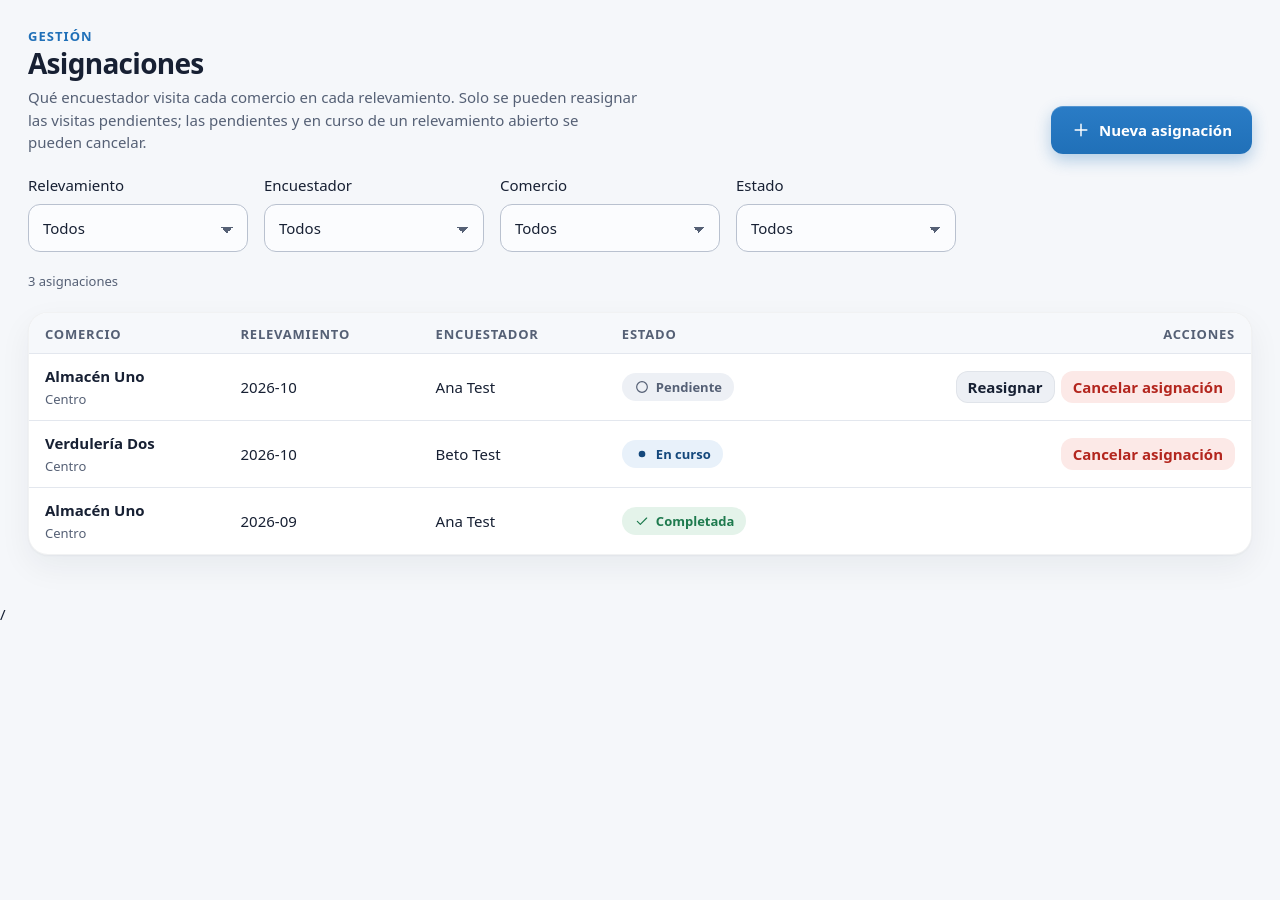
create asignacion › creates, closes and refreshes
Click the button "Nueva asignación".
click(1152, 130)  # box [1051,106,1252,154]
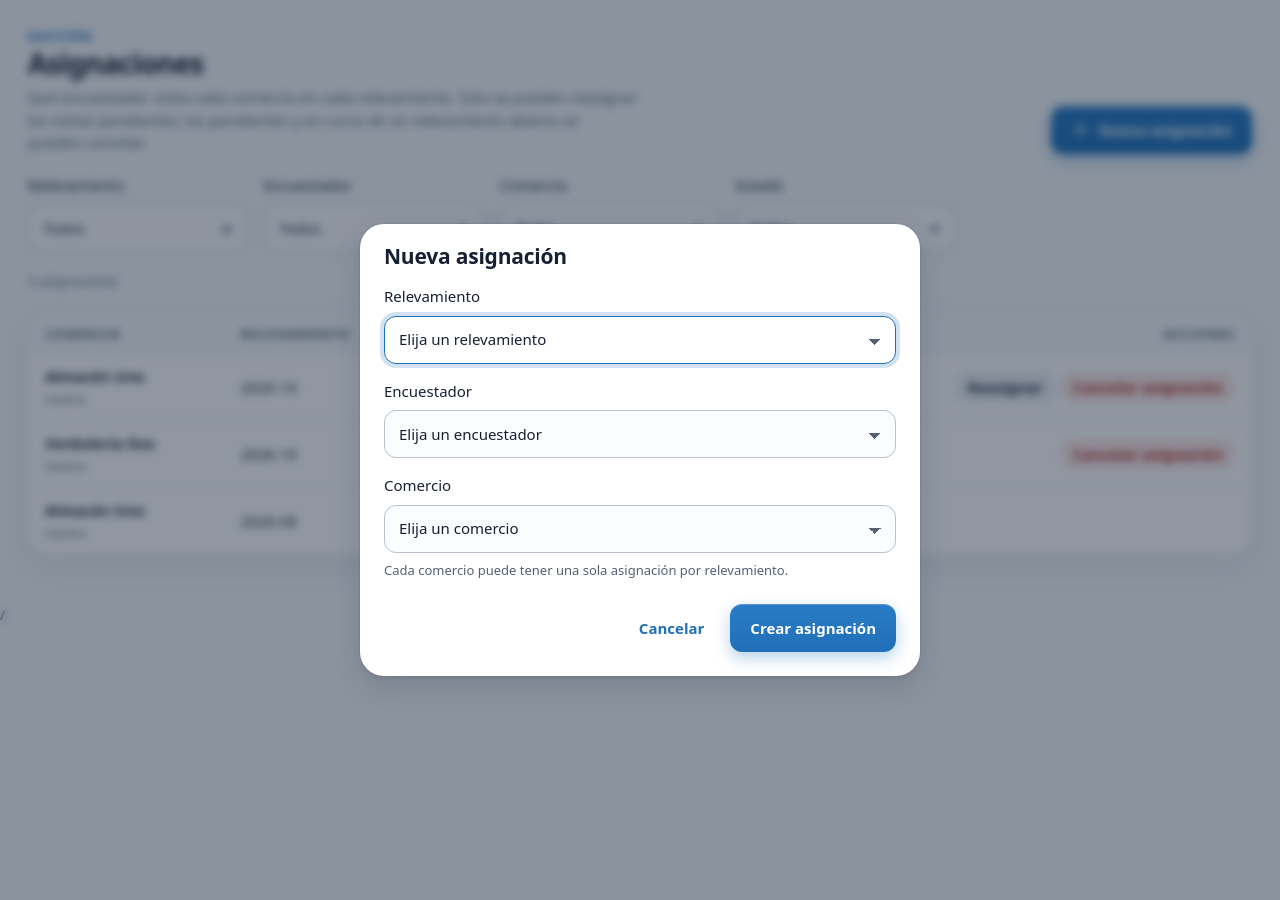
Select "2026-10" in the dropdown labelled "Relevamiento" at coordinates (640, 340), box [384,316,896,364]
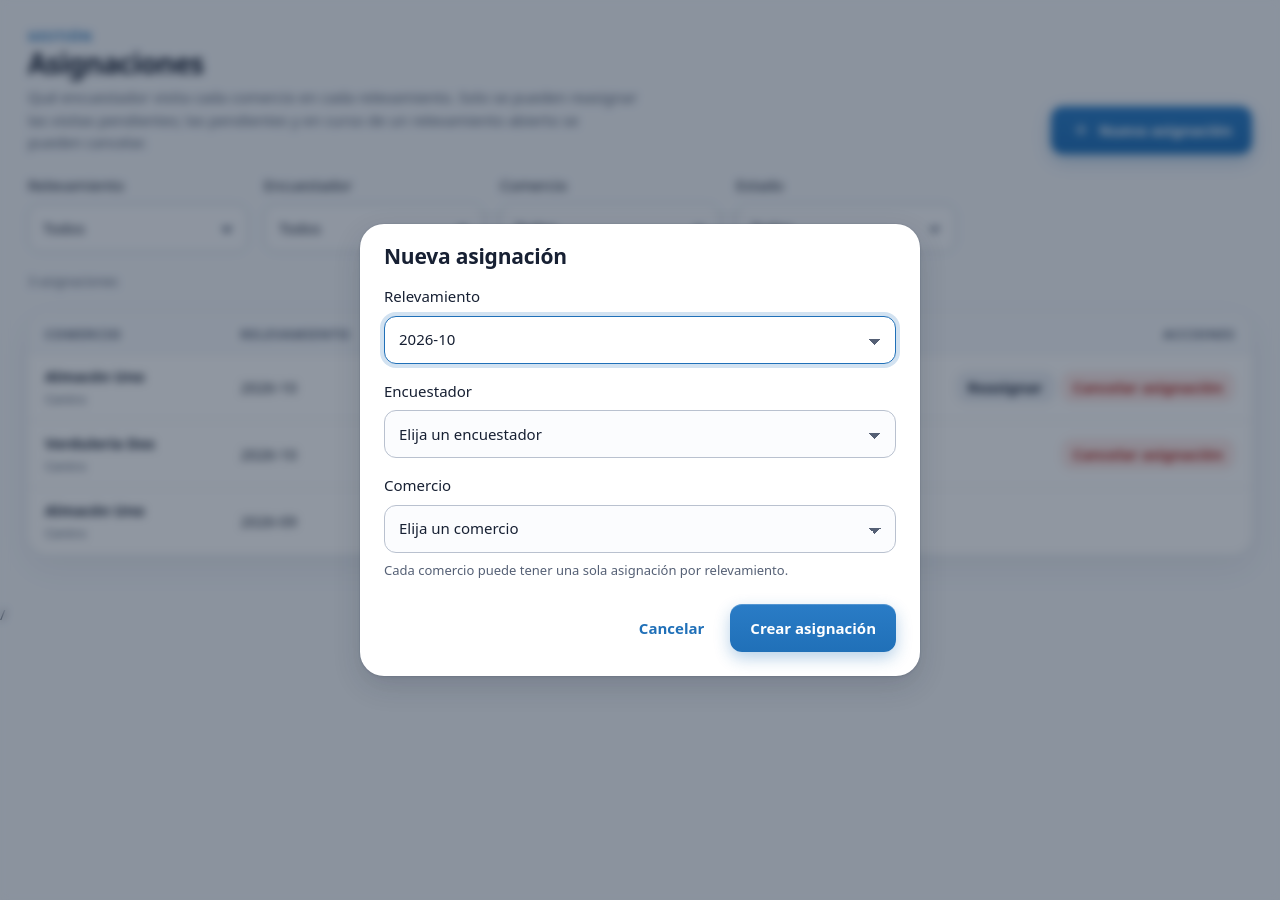
Select "Beto Test" in the dropdown labelled "Encuestador" at coordinates (640, 434), box [384,410,896,458]
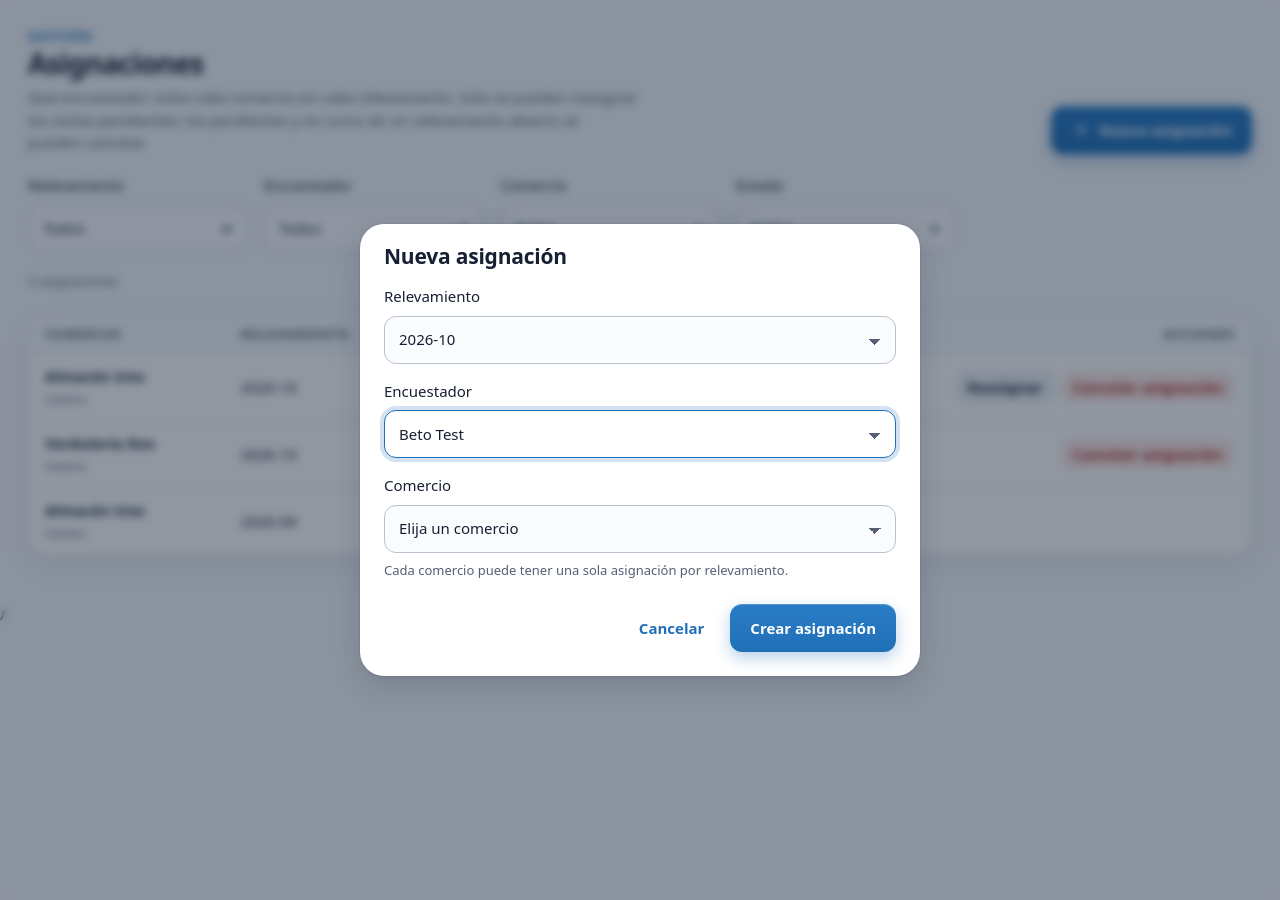
Select "Kiosco Tres (Centro)" in the dropdown labelled "Comercio" at coordinates (640, 529), box [384,505,896,553]
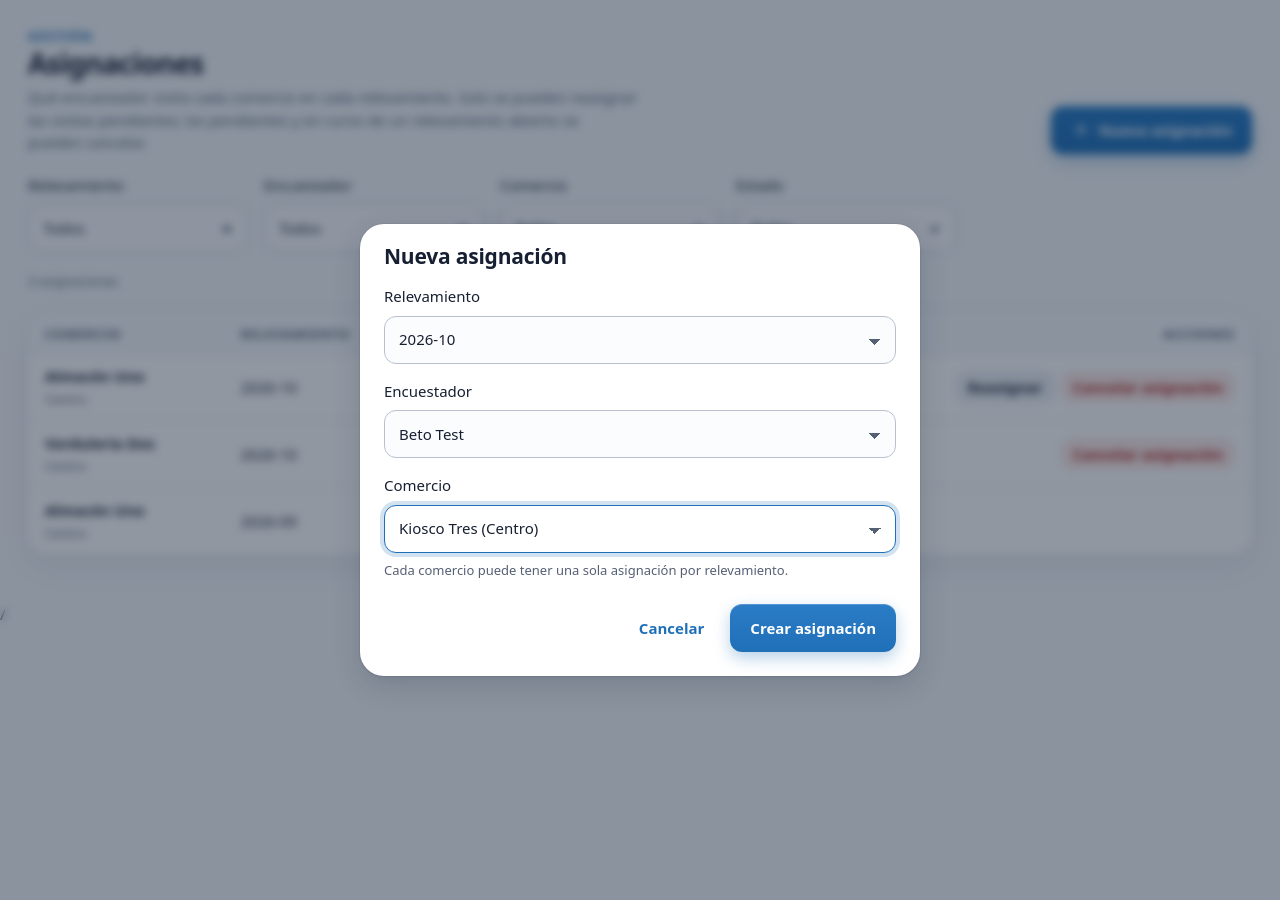
Click the button "Crear asignación".
click(813, 628)  # box [730,604,896,652]
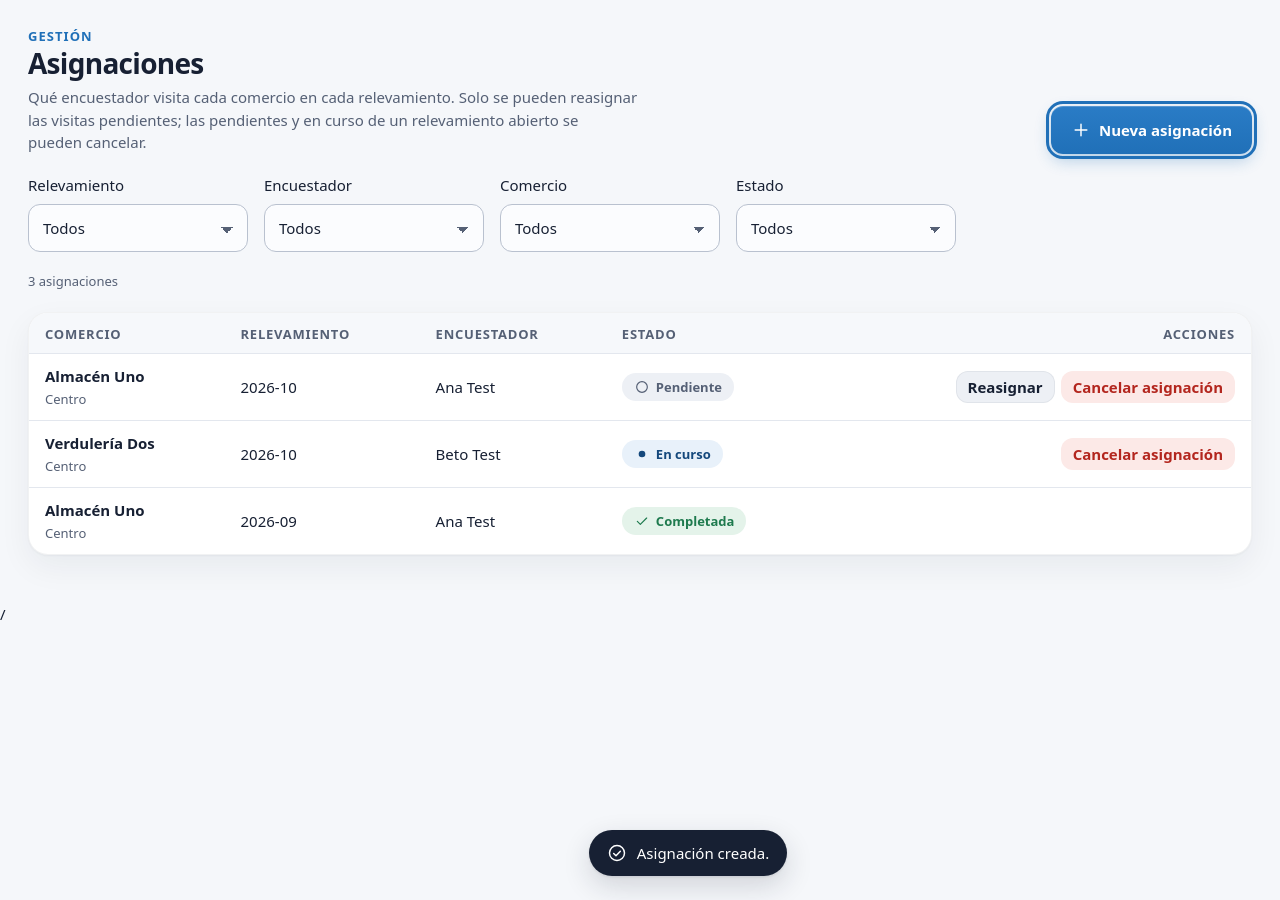
Expected: the dialog is gone
Expected: the text "Asignación creada." is shown, [637,842,769,864]
